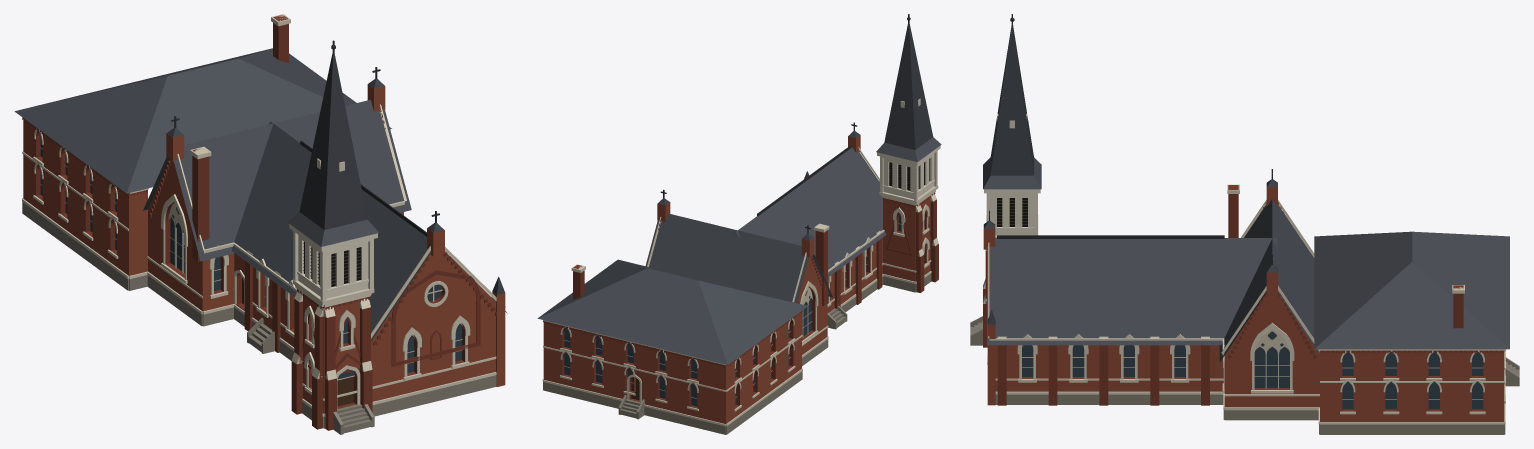
The model's file is ch-second-presbyterian-1913.glb.
3 views of the same model, side by side, from view 1: azimuth 30°, elevation 25°; view 2: azimuth 150°, elevation 25°; view 3: azimuth 270°, elevation 25° (orthographic). The views are drawn at different scales.
Visible parts, largest first — view 1: ch_slate, ch_brick, ch_brick2, ch_trim, ch_slate2, ch_base, ch_wood, ch_stain, ch_shadow, ch_iron, ch_trc, ch_door; view 2: ch_slate, ch_brick, ch_brick2, ch_trim, ch_base, ch_slate2, ch_wood, ch_stain, ch_iron; view 3: ch_slate, ch_brick, ch_trim, ch_base, ch_brick2, ch_stain, ch_slate2, ch_wood, ch_iron, ch_trc.
Boxes of the visible parts, <box> form: ch_slate: <box>14,48,507,340</box>; ch_brick: <box>23,84,505,413</box>; ch_brick2: <box>22,15,496,430</box>; ch_trim: <box>22,14,505,416</box>; ch_slate2: <box>167,54,504,294</box>; ch_base: <box>22,202,496,434</box>; ch_wood: <box>289,224,377,300</box>; ch_stain: <box>40,136,461,379</box>; ch_shadow: <box>304,242,360,286</box>; ch_iron: <box>171,40,439,236</box>; ch_trc: <box>168,203,462,363</box>; ch_door: <box>242,277,353,406</box>; ch_slate: <box>537,137,941,364</box>; ch_brick: <box>543,135,930,423</box>; ch_brick2: <box>543,151,938,408</box>; ch_trim: <box>542,98,938,426</box>; ch_base: <box>543,273,931,434</box>; ch_slate2: <box>658,23,933,240</box>; ch_wood: <box>877,145,940,200</box>; ch_stain: <box>564,213,901,406</box>; ch_iron: <box>660,14,910,233</box>; ch_slate: <box>983,157,1509,362</box>; ch_brick: <box>983,187,1504,421</box>; ch_trim: <box>983,113,1505,424</box>; ch_base: <box>970,316,1519,434</box>; ch_brick2: <box>983,185,1503,411</box>; ch_stain: <box>1022,331,1483,409</box>; ch_slate2: <box>984,25,1277,324</box>; ch_wood: <box>984,189,1040,235</box>; ch_iron: <box>989,14,1272,264</box>; ch_trc: <box>1022,328,1289,388</box>.
Bounding box in the file's own units: 21 × 28.13 × 43.2.
